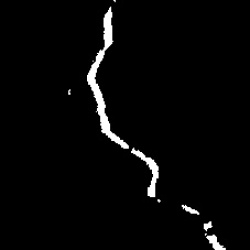crack: (86, 8, 129, 151), (132, 148, 159, 198), (205, 223, 226, 249), (183, 205, 199, 215)
